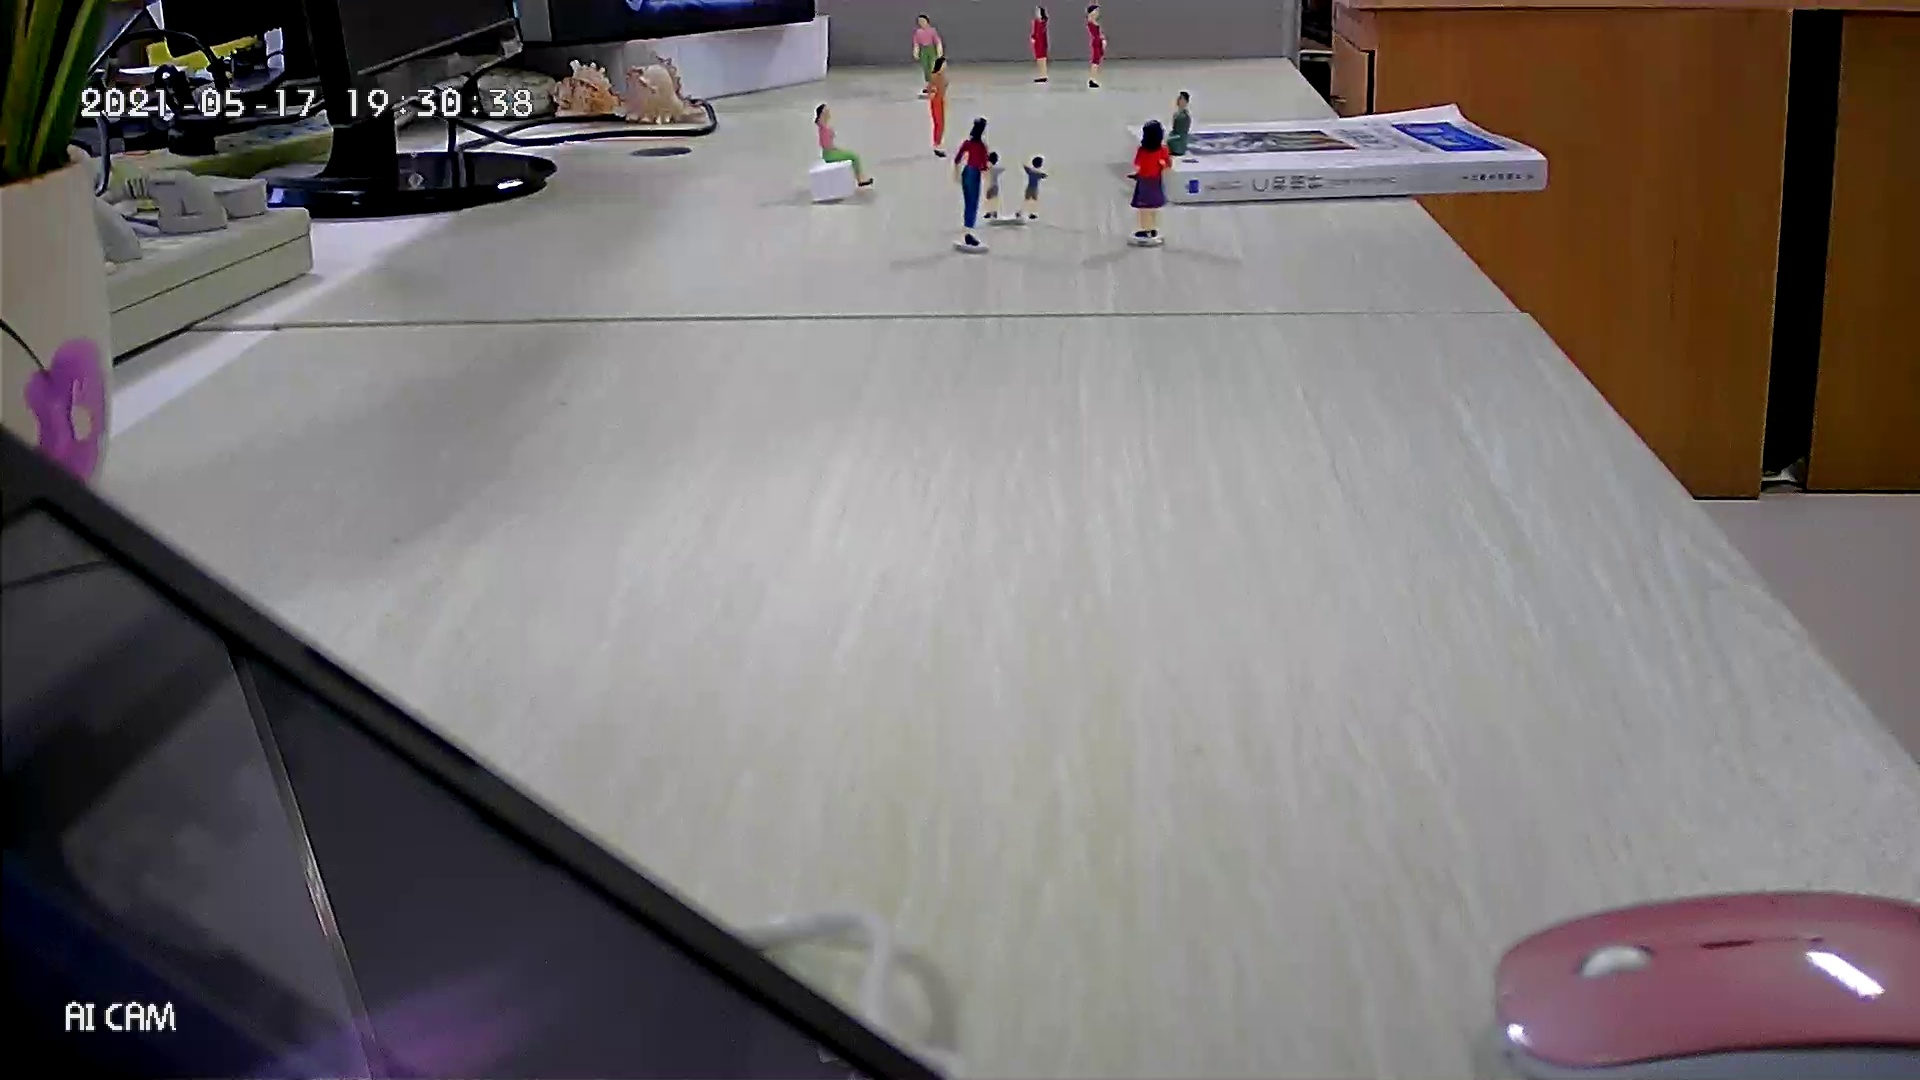person: (1124, 90, 1195, 184), (1129, 118, 1175, 241), (813, 104, 876, 188), (953, 115, 993, 247), (912, 13, 945, 95), (1012, 155, 1051, 222), (928, 56, 949, 159), (1085, 3, 1109, 91), (1027, 4, 1052, 85), (980, 151, 1008, 221)
